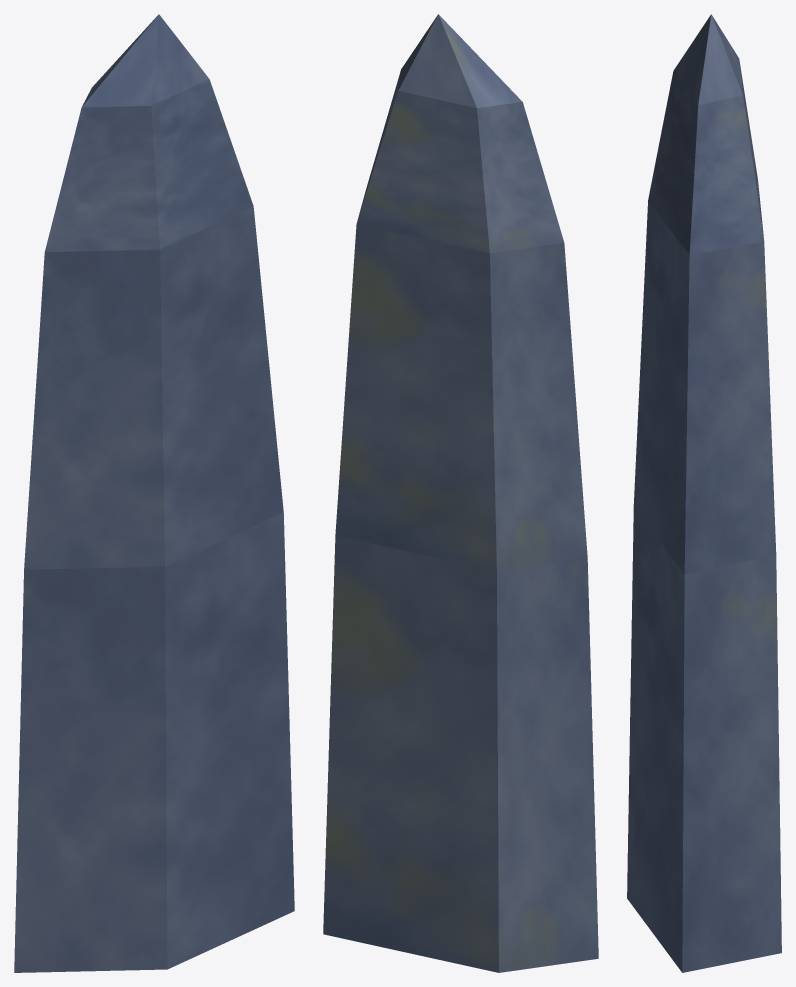
File: Oracle_Menhir_2_LOD1.gltf
3 renders of one model, left to right at view 1: azimuth 30°, elevation 25°; view 2: azimuth 150°, elevation 25°; view 3: azimuth 270°, elevation 25°, orthographic.
Parts seen in each view (by area): view 1: Oracle_Menhir_2_LOD1; view 2: Oracle_Menhir_2_LOD1; view 3: Oracle_Menhir_2_LOD1.
Part boxes in pixels (x1,y1,x2,y2): Oracle_Menhir_2_LOD1: [14, 14, 294, 972]; Oracle_Menhir_2_LOD1: [323, 14, 598, 972]; Oracle_Menhir_2_LOD1: [627, 14, 781, 972].
Bounding box in the file's own units: 1.52 × 4.85 × 0.7553.
1 material, 1 textured.
